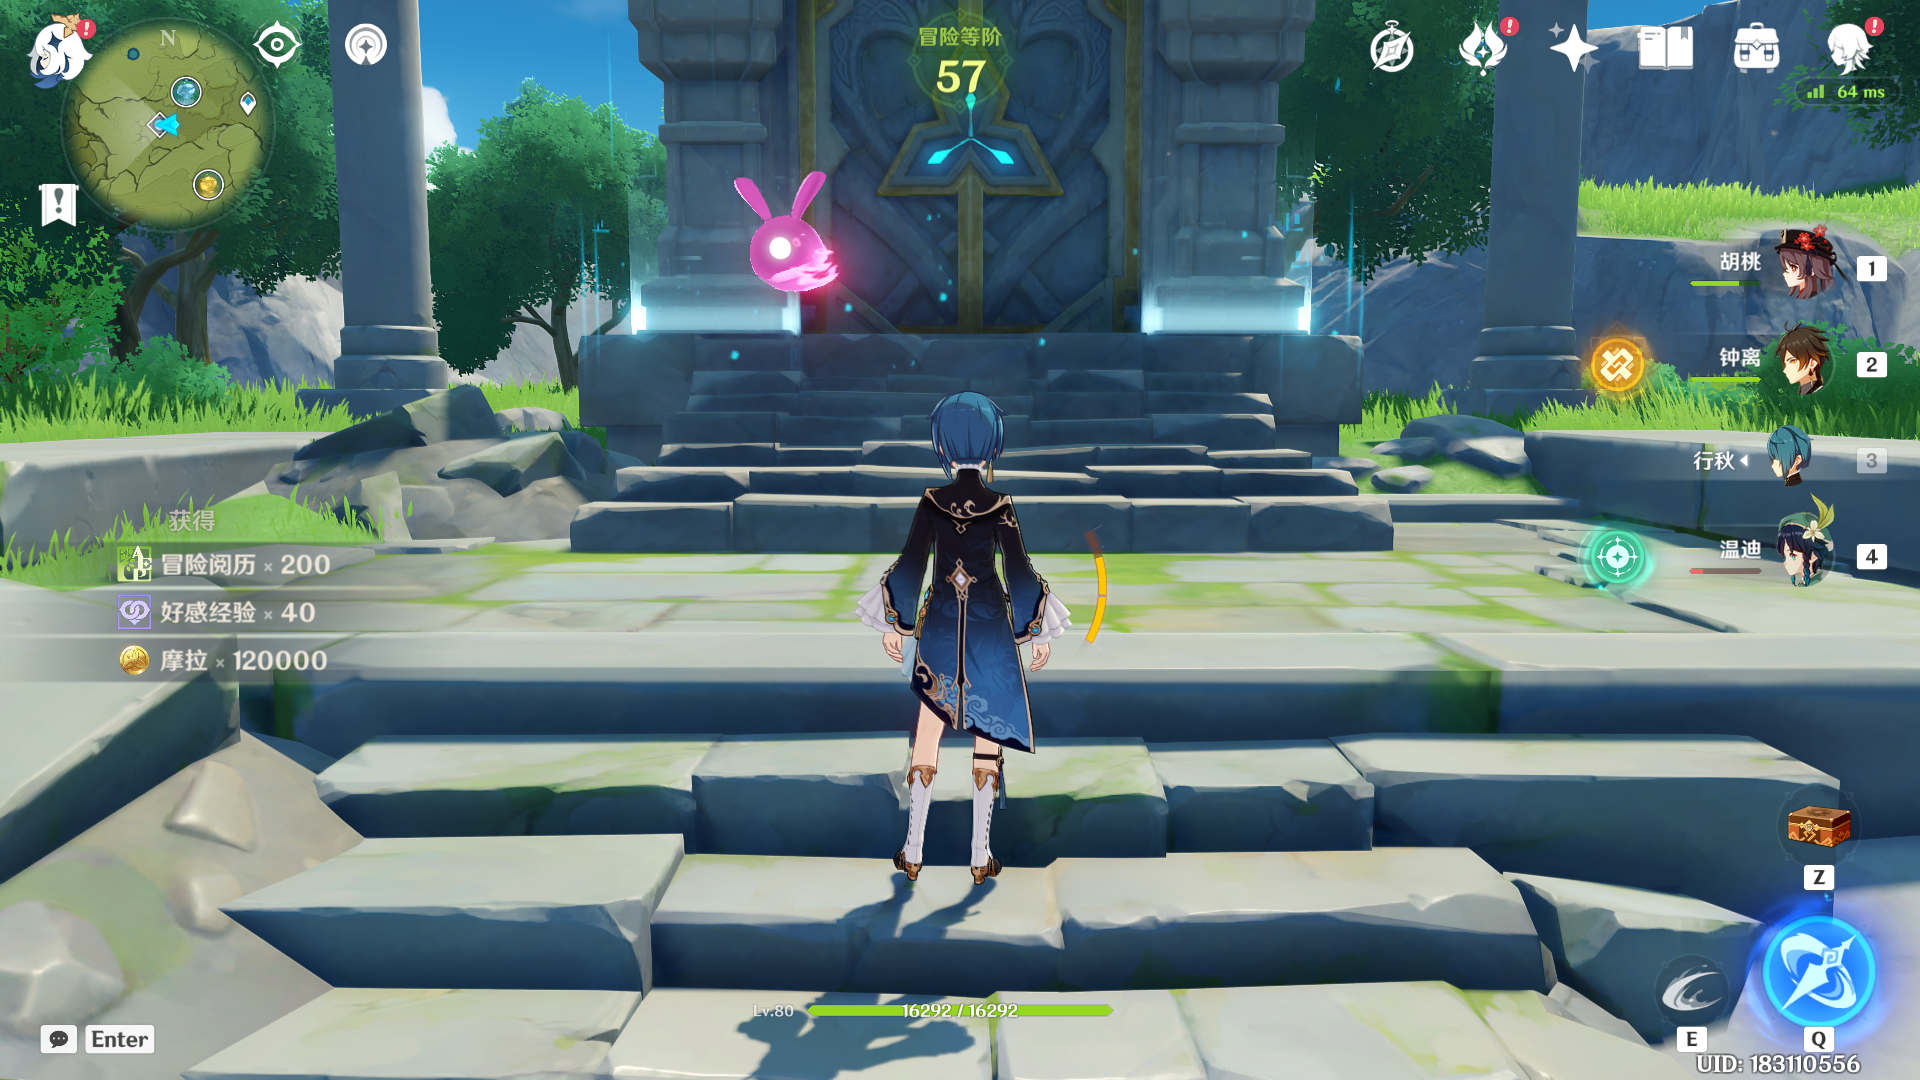character: (804, 385, 1113, 906)
